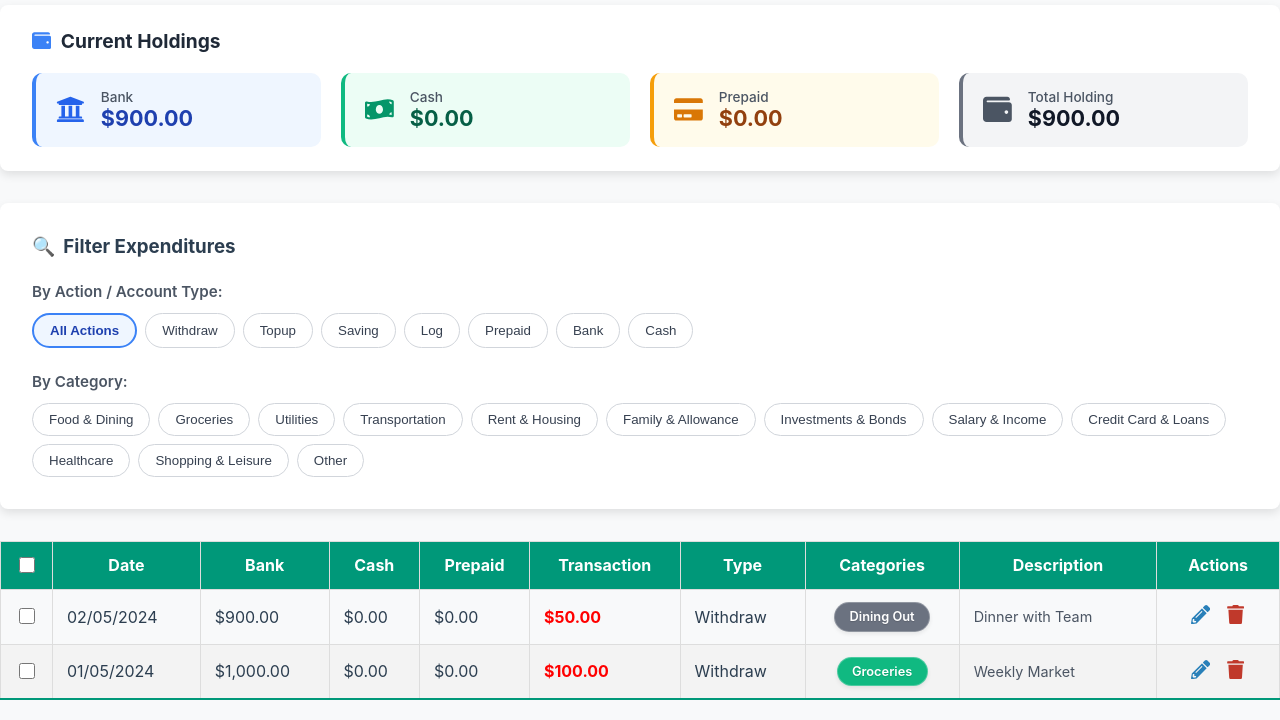
ExpenditureLogPage Bulk Actions [GAP-008] › 2. selects individual row and displays bulk actions bar with count badge
(page scrolled)
Expected: the text "Weekly Market" is shown, [959,644,1157,699]
Step 1. Click the checkbox named "select transaction" → point(27, 616), box [19,608,35,624]
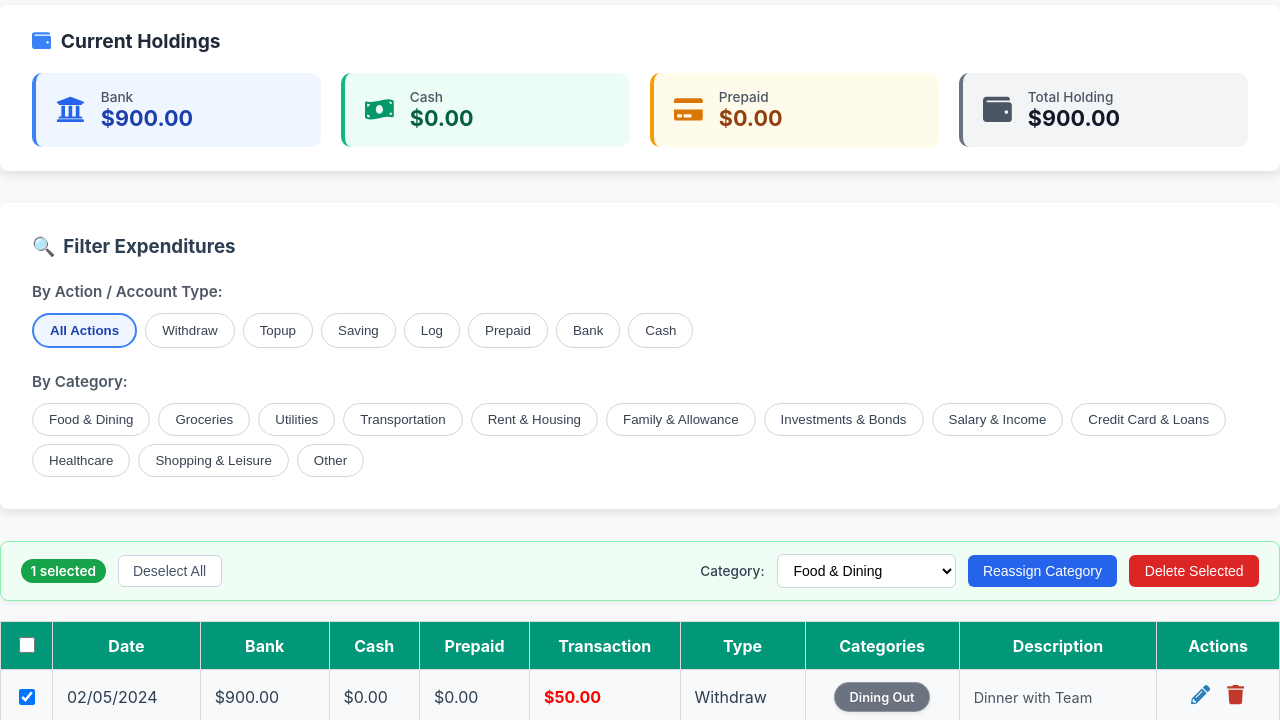
Expected: the checkbox named "select transaction" is checked, [19,688,35,704]
Expected: the element named "bulk actions toolbar" is shown, [0,541,1279,601]
Expected: the text "1 selected" is shown, [21,559,106,583]
